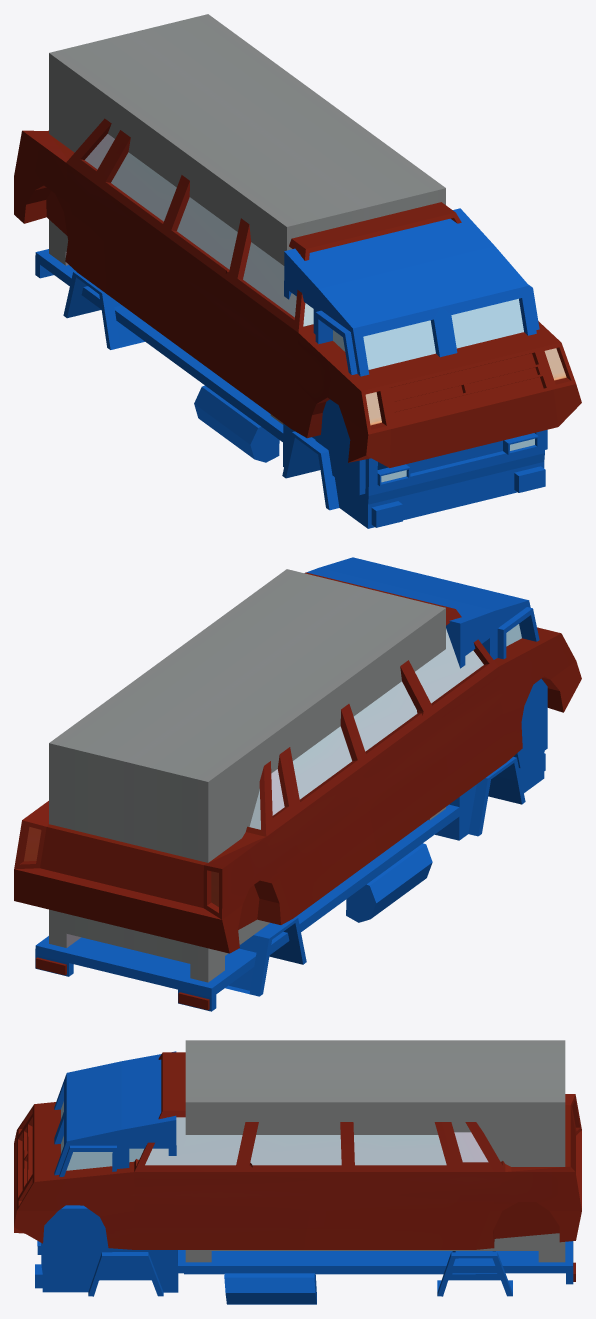
File: cars.fbx
3 renders of one model, top to bottom at view 1: azimuth 30°, elevation 25°; view 2: azimuth 150°, elevation 25°; view 3: azimuth 270°, elevation 25°, orthographic. The views are drawn at different scales.
Visible parts, largest first — view 1: Truck.001, car_5.001; view 2: Truck.001, car_5.001; view 3: Truck.001, car_5.001.
Part boxes in pixels (left/top/right/bottom): Truck.001: left=35, top=14, right=547, bottom=528; car_5.001: left=14, top=118, right=581, bottom=467; Truck.001: left=35, top=557, right=547, bottom=1011; car_5.001: left=14, top=572, right=581, bottom=953; Truck.001: left=35, top=1040, right=575, bottom=1304; car_5.001: left=14, top=1052, right=581, bottom=1249.
Bounding box in the file's own units: 243 × 276 × 695.
Materials: 1 (1 with a texture image).
